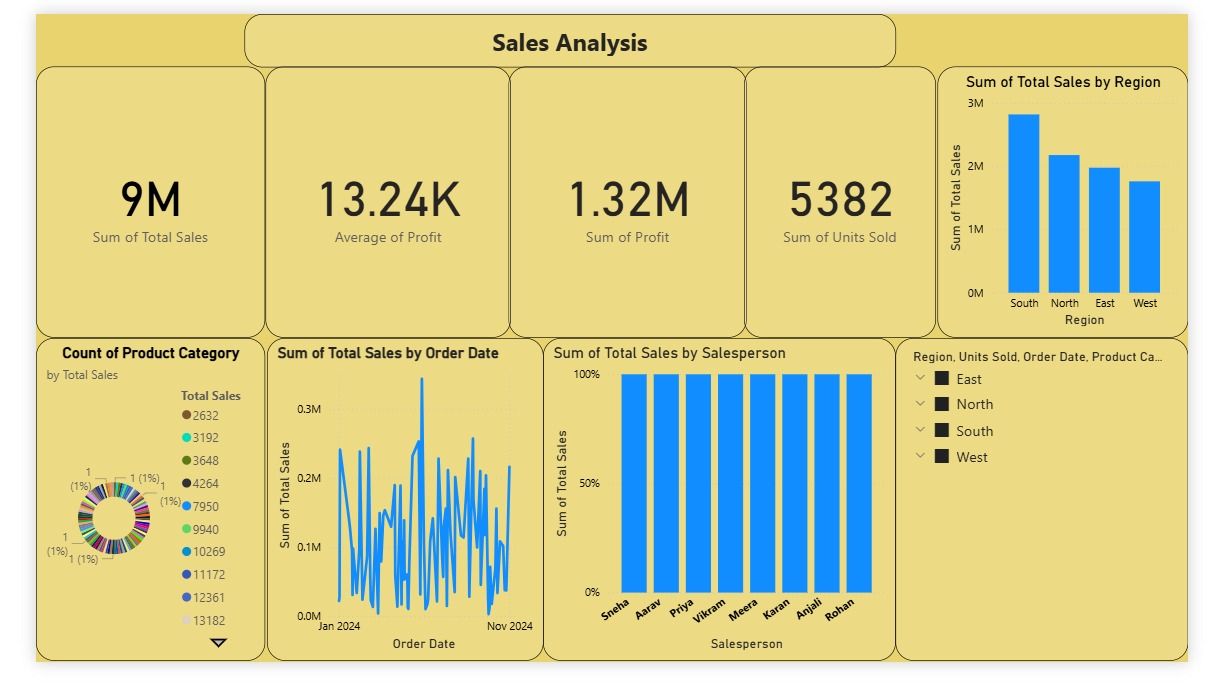

This screenshot's page, from the dashboard's own definition file:
{"tool":"powerbi","page":{"name":"Page 1","canvas":[1280,720],"ordinal":0},"visuals":[{"type":"card","fields":{"Values":["PowerBI_Sales_Dashboard_Practice.Total Sales"]},"box":[0,59.1,254.4,301.3],"z":0},{"type":"card","fields":{"Values":["PowerBI_Sales_Dashboard_Practice.Profit"]},"box":[525.4,59.1,265,301.3],"z":1000},{"type":"card","fields":{"Values":["PowerBI_Sales_Dashboard_Practice.Profit"]},"box":[254.4,59.1,272.6,301.3],"z":2000},{"type":"card","fields":{"Values":["PowerBI_Sales_Dashboard_Practice.Units Sold"]},"box":[787.4,59.1,213.5,301.3],"z":3000},{"type":"clusteredColumnChart","fields":{"Category":["PowerBI_Sales_Dashboard_Practice.Region"],"Y":["PowerBI_Sales_Dashboard_Practice.Total Sales"]},"box":[1000.9,59.1,278.6,301.3],"z":4000},{"type":"donutChart","fields":{"Y":["PowerBI_Sales_Dashboard_Practice.Product Category"],"Category":["PowerBI_Sales_Dashboard_Practice.Total Sales"]},"box":[0,360.4,254.4,358.9],"z":5000},{"type":"lineChart","fields":{"Category":["PowerBI_Sales_Dashboard_Practice.Order Date Hierarchy.Order Date"],"Y":["PowerBI_Sales_Dashboard_Practice.Total Sales"]},"box":[255.9,360.4,307.4,358.9],"z":6000},{"type":"hundredPercentStackedColumnChart","fields":{"Category":["PowerBI_Sales_Dashboard_Practice.Salesperson"],"Y":["PowerBI_Sales_Dashboard_Practice.Total Sales"]},"box":[563.3,360.4,392.2,358.9],"z":7000},{"type":"slicer","fields":{"Values":["PowerBI_Sales_Dashboard_Practice.Region","PowerBI_Sales_Dashboard_Practice.Units Sold","PowerBI_Sales_Dashboard_Practice.Order Date Hierarchy.Order Date","PowerBI_Sales_Dashboard_Practice.Product Category","PowerBI_Sales_Dashboard_Practice.Total Sales"]},"box":[955,360,325,358.3],"z":8000},{"type":"textbox","box":[231.7,0,723.8,59.1],"z":8001}]}

Visuals, with their boxes in screenshot pixels (x1, y1, x2, y2), scaled from the page's 1280x720 canvas onto the 1222x694 screenshot:
card - PowerBI_Sales_Dashboard_Practice.Total Sales: 0/57/243/347
card - PowerBI_Sales_Dashboard_Practice.Profit: 502/57/755/347
card - PowerBI_Sales_Dashboard_Practice.Profit: 243/57/503/347
card - PowerBI_Sales_Dashboard_Practice.Units Sold: 752/57/956/347
clusteredColumnChart - PowerBI_Sales_Dashboard_Practice.Region x PowerBI_Sales_Dashboard_Practice.Total Sales: 956/57/1221/347
donutChart - PowerBI_Sales_Dashboard_Practice.Product Category x PowerBI_Sales_Dashboard_Practice.Total Sales: 0/347/243/693
lineChart - PowerBI_Sales_Dashboard_Practice.Order Date Hierarchy.Order Date x PowerBI_Sales_Dashboard_Practice.Total Sales: 244/347/538/693
hundredPercentStackedColumnChart - PowerBI_Sales_Dashboard_Practice.Salesperson x PowerBI_Sales_Dashboard_Practice.Total Sales: 538/347/912/693
slicer - PowerBI_Sales_Dashboard_Practice.Region x PowerBI_Sales_Dashboard_Practice.Units Sold: 912/347/1221/692
textbox: 221/0/912/57
